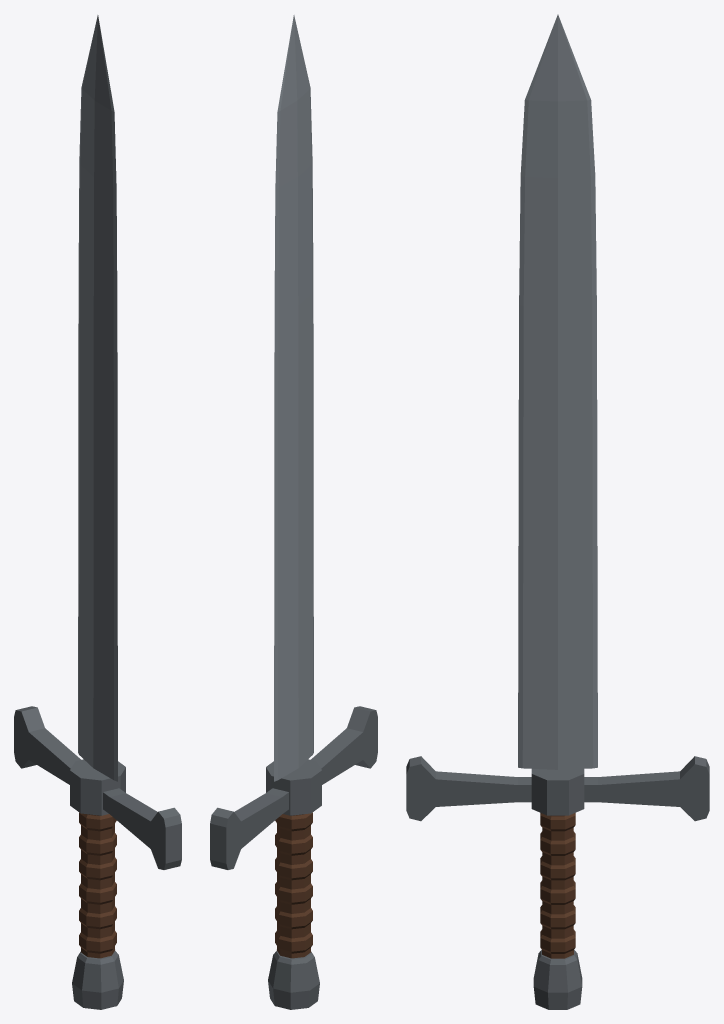
File: WP_Sword_01.glb
3 views of the same model, side by side, from view 1: azimuth 30°, elevation 25°; view 2: azimuth 150°, elevation 25°; view 3: azimuth 270°, elevation 25° (orthographic).
Visible parts, largest first — view 1: WP_Sword_01; view 2: WP_Sword_01; view 3: WP_Sword_01.
Part boxes in pixels (x1,y1,x2,y2): WP_Sword_01: [14, 15, 181, 1009]; WP_Sword_01: [210, 15, 377, 1009]; WP_Sword_01: [406, 14, 709, 1009].
Bounding box in the file's own units: 0.0499 × 1.04 × 0.288.
